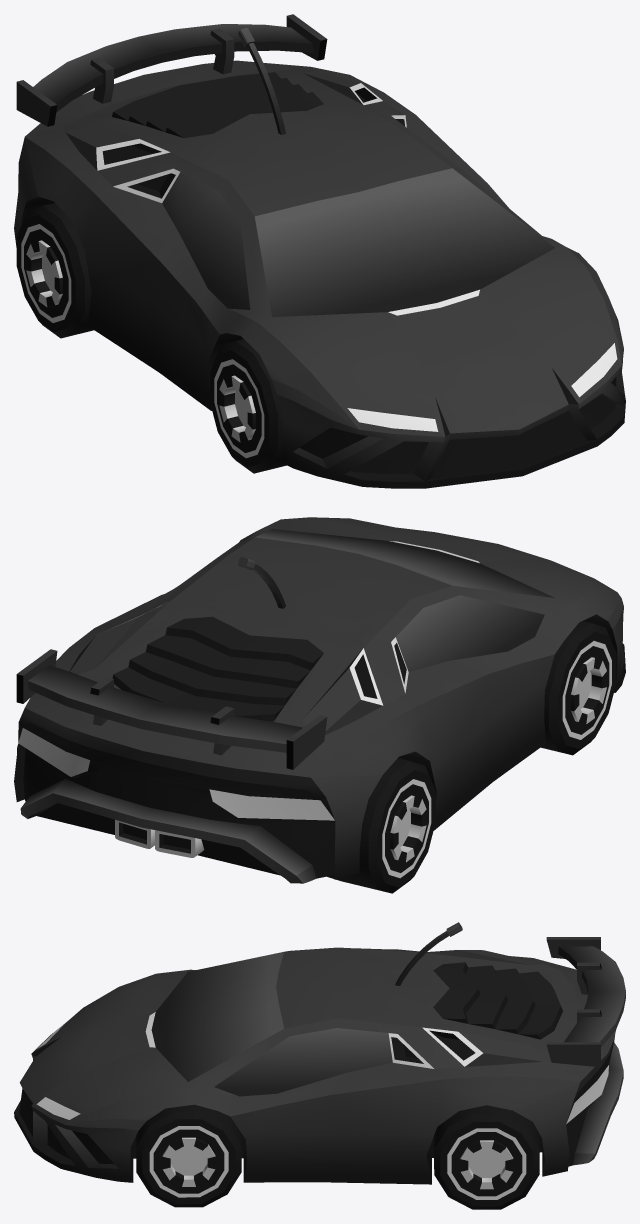
The picture shows the model from 3 angles, top to bottom: view 1: azimuth 30°, elevation 25°; view 2: azimuth 150°, elevation 25°; view 3: azimuth 270°, elevation 25°; orthographic projection. The views are drawn at different scales.
Parts seen in each view (by area): view 1: 5, cassini.tire.011, cassini.tire.009; view 2: 5, cassini.tire.011, cassini.tire.009; view 3: 5, cassini.tire.010, cassini.tire.008.
Boxes of the visible parts, x1,y1,x2,y2 form: 5: (14,14,625,488); cassini.tire.011: (16,203,93,338); cassini.tire.009: (210,339,286,473); 5: (14,517,625,883); cassini.tire.011: (327,758,435,893); cassini.tire.009: (541,621,616,755); 5: (14,922,625,1184); cassini.tire.010: (434,1105,539,1209); cassini.tire.008: (136,1104,241,1207).
Size of the model in its own units: 205 by 146 by 370.
